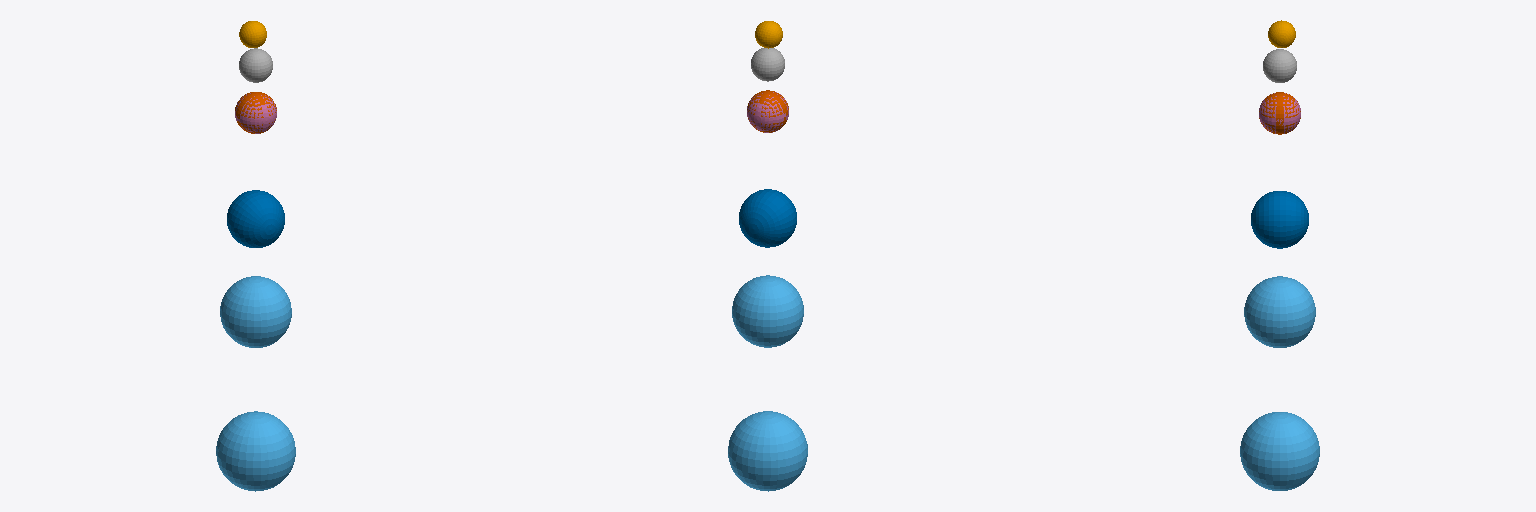
The robot description file, URDF, robot "MyArm300pi_EE_test_pt2":
<?xml version="1.0" encoding="UTF-8"?>
<robot name="MyArm300pi_EE_test_pt2">
  <joint name="gripper_base_to_gripper_left2" type="revolute">
    <origin xyz="-0.005 0.027 0. " rpy="0. -1.5707963 0. "/>
    <parent link="gripper_base"/>
    <child link="gripper_left2"/>
    <axis xyz="1. 0. 0."/>
    <limit lower="-0.7999999" upper="0.5" effort="0." velocity="5939047335254987724700441203225657344."/>
  </joint>
  <joint name="gripper_base_to_gripper_right2" type="revolute">
    <origin xyz="0.005 0.027 0. " rpy="0. -1.5707963 0. "/>
    <parent link="gripper_base"/>
    <child link="gripper_right2"/>
    <axis xyz="1. 0. 0."/>
    <limit lower="-0.5" upper="0.7999999" effort="0." velocity="5939047335254987724700441203225657344."/>
  </joint>
  <joint name="gripper_base_to_gripper_right3" type="revolute">
    <origin xyz="0.012 0.005 0. " rpy="0. -1.5707963 0. "/>
    <parent link="gripper_base"/>
    <child link="gripper_right3"/>
    <axis xyz="1. 0. 0."/>
    <limit lower="-0.15" upper="0.7" effort="0." velocity="5939047335254987724700441203225657344."/>
  </joint>
  <joint name="gripper_base_to_joint7" type="fixed">
    <origin xyz="0.0337681 0.0000224 0.0007262" rpy="3.1394386 0.0018566 1.5790223"/>
    <parent link="joint7"/>
    <child link="gripper_base"/>
  </joint>
  <joint name="gripper_controller" type="revolute">
    <origin xyz="-0.012 0.005 0. " rpy="0. -1.5707963 0. "/>
    <parent link="gripper_base"/>
    <child link="gripper_left3"/>
    <axis xyz="1. 0. 0."/>
    <limit lower="-0.7" upper="0.15" effort="1000." velocity="5939047335254987724700441203225657344."/>
  </joint>
  <joint name="gripper_left3_to_gripper_left1" type="revolute">
    <origin xyz="-0. 0.016 0.027" rpy="0.0000001 -0.0000005 -0.0000004"/>
    <parent link="gripper_left3"/>
    <child link="gripper_left1"/>
    <axis xyz="1. 0. 0."/>
    <limit lower="-0.5" upper="0.5" effort="0." velocity="5939047335254987724700441203225657344."/>
  </joint>
  <joint name="gripper_right3_to_gripper_right1" type="revolute">
    <origin xyz="0. 0.016 -0.027" rpy="0. 0. 0."/>
    <parent link="gripper_right3"/>
    <child link="gripper_right1"/>
    <axis xyz="1. 0. 0."/>
    <limit lower="-0.5" upper="0.5" effort="0." velocity="5939047335254987724700441203225657344."/>
  </joint>
  <joint name="joint1_to_base" type="revolute">
    <origin xyz="0. 0. 0.165" rpy="0. -1.5707963 0. "/>
    <parent link="base"/>
    <child link="joint1"/>
    <axis xyz="1. 0. 0."/>
    <limit lower="-2.7924999" upper="2.7924999" effort="1000." velocity="1."/>
  </joint>
  <joint name="joint2_to_joint1" type="revolute">
    <origin xyz="0. 0. 0." rpy="0. 0. 1.5708"/>
    <parent link="joint1"/>
    <child link="joint2"/>
    <axis xyz="1. 0. 0."/>
    <limit lower="-1.3961999" upper="1.3961999" effort="1000." velocity="1."/>
  </joint>
  <joint name="joint3_to_joint2" type="revolute">
    <origin xyz="0. -0.11 0. " rpy="0. 0. -1.5708"/>
    <parent link="joint2"/>
    <child link="joint3"/>
    <axis xyz="1. 0. 0."/>
    <limit lower="-2.8796998" upper="2.8796998" effort="1000." velocity="1."/>
  </joint>
  <joint name="joint4_to_joint3" type="revolute">
    <origin xyz="0. 0. 0." rpy="3.1415925 -0.0000026 -1.5708 "/>
    <parent link="joint3"/>
    <child link="joint4"/>
    <axis xyz="1. 0. 0."/>
    <limit lower="-1.7453" upper="1.3961999" effort="1000." velocity="1."/>
  </joint>
  <joint name="joint5_to_joint4" type="revolute">
    <origin xyz="0. -0.126 0. " rpy="0. 0. -1.5708"/>
    <parent link="joint4"/>
    <child link="joint5"/>
    <axis xyz="1. 0. 0."/>
    <limit lower="-2.8796998" upper="2.8796998" effort="1000." velocity="1."/>
  </joint>
  <joint name="joint6_to_joint5" type="revolute">
    <origin xyz="0. 0. 0." rpy="0. 0. 1.5708"/>
    <parent link="joint5"/>
    <child link="joint6"/>
    <axis xyz="1. 0. 0."/>
    <limit lower="-1.9198" upper="1.9198" effort="1000." velocity="1."/>
  </joint>
  <joint name="joint7_to_joint6" type="revolute">
    <origin xyz="0. -0.056 0. " rpy="0. 0. -1.5708"/>
    <parent link="joint6"/>
    <child link="joint7"/>
    <axis xyz="1. 0. 0."/>
    <limit lower="-2.8796998" upper="2.8796998" effort="1000." velocity="1."/>
  </joint>
  <joint name="root_joint" type="fixed">
    <origin xyz="0. 0. 0." rpy="0. 0. 0."/>
    <parent link="World"/>
    <child link="base"/>
  </joint>
  <link name="World">
    <visual>
      <origin xyz="0.0111862 0. 0. " rpy="0. 0. 0."/>
      <geometry>
        <mesh filename="meshes/CollisionMesh.obj" scale="1. 1. 1."/>
      </geometry>
    </visual>
    <visual>
      <origin xyz="-0.0250791 0.0603377 0.4543955" rpy="0. 0. 0."/>
      <geometry>
        <mesh filename="meshes/Cube.obj" scale="0.0325 0.0325 0.0325"/>
      </geometry>
    </visual>
    <visual>
      <origin xyz="-0.0023242 0.0021281 0.4935589" rpy="1.1243356 -1.5385494 -1.1245381"/>
      <geometry>
        <sphere radius="0.0150095"/>
      </geometry>
    </visual>
  </link>
  <link name="base">
    <inertial>
      <origin xyz="0. 0. 0." rpy="0. 0. 0."/>
      <mass value="0.000001"/>
      <inertia ixx="0." ixy="0." ixz="0." iyy="0." iyz="0." izz="0."/>
    </inertial>
    <visual>
      <origin xyz="0. 0. 0." rpy="0. 0. 0."/>
      <geometry>
        <mesh filename="meshes/base_visuals.obj" scale="1. 1. 1."/>
      </geometry>
    </visual>
    <visual>
      <origin xyz="0. 0. 0." rpy="0. 0. 0."/>
      <geometry>
        <mesh filename="meshes/base_collisions.obj" scale="1. 1. 1."/>
      </geometry>
    </visual>
    <visual>
      <origin xyz="0. 0. 0." rpy="0. 0. 0."/>
      <geometry>
        <sphere radius="0.0430467"/>
      </geometry>
    </visual>
    <collision>
      <origin xyz="0. 0. 0." rpy="0. 0. 0."/>
      <geometry>
        <mesh filename="meshes/base_collisions.obj" scale="1. 1. 1."/>
      </geometry>
    </collision>
  </link>
  <link name="gripper_base">
    <inertial>
      <origin xyz="0. 0. 0." rpy="0. 0. 0."/>
      <mass value="0.000001"/>
      <inertia ixx="0." ixy="0." ixz="0." iyy="0." iyz="0." izz="0."/>
    </inertial>
    <visual>
      <origin xyz="0. 0.0077 -0.012 " rpy="0. 0. 0."/>
      <geometry>
        <mesh filename="meshes/gripper_base_visuals.obj" scale="1. 1. 1."/>
      </geometry>
    </visual>
    <visual>
      <origin xyz="0. 0.0077 -0.012 " rpy="0. 0. 0."/>
      <geometry>
        <mesh filename="meshes/gripper_base_collisions.obj" scale="1. 1. 1."/>
      </geometry>
    </visual>
    <collision>
      <origin xyz="0. 0.0077 -0.012 " rpy="0. 0. 0."/>
      <geometry>
        <mesh filename="meshes/gripper_base_collisions.obj" scale="1. 1. 1."/>
      </geometry>
    </collision>
  </link>
  <link name="gripper_left1">
    <inertial>
      <origin xyz="0. 0. 0." rpy="0. 0. 0."/>
      <mass value="0.000001"/>
      <inertia ixx="0." ixy="0." ixz="0." iyy="0." iyz="0." izz="0."/>
    </inertial>
    <visual>
      <origin xyz="-0.012 -0.0133 -0.039 " rpy="-2.9133403 1.5707958 -2.91334 "/>
      <geometry>
        <mesh filename="meshes/gripper_left1_visuals.obj" scale="1. 1. 1."/>
      </geometry>
    </visual>
    <visual>
      <origin xyz="-0.012 -0.0133 0.039 " rpy="-2.9133403 1.5707958 -2.91334 "/>
      <geometry>
        <mesh filename="meshes/gripper_left1_collisions.obj" scale="1. 1. 1."/>
      </geometry>
    </visual>
    <collision>
      <origin xyz="-0.012 -0.0133 0.039 " rpy="-2.9133403 1.5707958 -2.91334 "/>
      <geometry>
        <mesh filename="meshes/gripper_left1_collisions.obj" scale="1. 1. 1."/>
      </geometry>
    </collision>
  </link>
  <link name="gripper_left2">
    <inertial>
      <origin xyz="0. 0. 0." rpy="0. 0. 0."/>
      <mass value="0.000001"/>
      <inertia ixx="0." ixy="0." ixz="0." iyy="0." iyz="0." izz="0."/>
    </inertial>
    <visual>
      <origin xyz="-0.012 -0.0195 -0.005 " rpy="0. 1.5707963 0. "/>
      <geometry>
        <mesh filename="meshes/gripper_left2_visuals.obj" scale="1. 1. 1."/>
      </geometry>
    </visual>
    <visual>
      <origin xyz="-0.012 -0.0195 0.005 " rpy="0. 1.5707963 0. "/>
      <geometry>
        <mesh filename="meshes/gripper_left2_collisions.obj" scale="1. 1. 1."/>
      </geometry>
    </visual>
    <collision>
      <origin xyz="-0.012 -0.0195 0.005 " rpy="0. 1.5707963 0. "/>
      <geometry>
        <mesh filename="meshes/gripper_left2_collisions.obj" scale="1. 1. 1."/>
      </geometry>
    </collision>
  </link>
  <link name="gripper_left3">
    <inertial>
      <origin xyz="0. 0. 0." rpy="0. 0. 0."/>
      <mass value="0.000001"/>
      <inertia ixx="0." ixy="0." ixz="0." iyy="0." iyz="0." izz="0."/>
    </inertial>
    <visual>
      <origin xyz="-0.012 0.0025 -0.012 " rpy="0. 1.5707963 0. "/>
      <geometry>
        <mesh filename="meshes/gripper_left3_visuals.obj" scale="1. 1. 1."/>
      </geometry>
    </visual>
    <visual>
      <origin xyz="-0.012 0.0025 -0.012 " rpy="0. 1.5707963 0. "/>
      <geometry>
        <mesh filename="meshes/gripper_left3_collisions.obj" scale="1. 1. 1."/>
      </geometry>
    </visual>
    <collision>
      <origin xyz="-0.012 0.0025 -0.012 " rpy="0. 1.5707963 0. "/>
      <geometry>
        <mesh filename="meshes/gripper_left3_collisions.obj" scale="1. 1. 1."/>
      </geometry>
    </collision>
  </link>
  <link name="gripper_right1">
    <inertial>
      <origin xyz="0. 0. 0." rpy="0. 0. 0."/>
      <mass value="0.000001"/>
      <inertia ixx="0." ixy="0." ixz="0." iyy="0." iyz="0." izz="0."/>
    </inertial>
    <visual>
      <origin xyz="-0.012 -0.0133 0.039 " rpy="0. 1.5707963 0. "/>
      <geometry>
        <mesh filename="meshes/gripper_right1_visuals.obj" scale="1. 1. 1."/>
      </geometry>
    </visual>
    <visual>
      <origin xyz="-0.012 -0.0133 0.039 " rpy="0. 1.5707963 0. "/>
      <geometry>
        <mesh filename="meshes/gripper_right1_collisions.obj" scale="1. 1. 1."/>
      </geometry>
    </visual>
    <collision>
      <origin xyz="-0.012 -0.0133 0.039 " rpy="0. 1.5707963 0. "/>
      <geometry>
        <mesh filename="meshes/gripper_right1_collisions.obj" scale="1. 1. 1."/>
      </geometry>
    </collision>
  </link>
  <link name="gripper_right2">
    <inertial>
      <origin xyz="0. 0. 0." rpy="0. 0. 0."/>
      <mass value="0.000001"/>
      <inertia ixx="0." ixy="0." ixz="0." iyy="0." iyz="0." izz="0."/>
    </inertial>
    <visual>
      <origin xyz="-0.012 -0.0195 0.005 " rpy="0.1549717 1.5707961 0.1549717"/>
      <geometry>
        <mesh filename="meshes/gripper_right2_visuals.obj" scale="1. 1. 1."/>
      </geometry>
    </visual>
    <visual>
      <origin xyz="-0.012 -0.0195 0.005 " rpy="0.1549717 1.5707961 0.1549717"/>
      <geometry>
        <mesh filename="meshes/gripper_right2_collisions.obj" scale="1. 1. 1."/>
      </geometry>
    </visual>
    <collision>
      <origin xyz="-0.012 -0.0195 0.005 " rpy="0.1549717 1.5707961 0.1549717"/>
      <geometry>
        <mesh filename="meshes/gripper_right2_collisions.obj" scale="1. 1. 1."/>
      </geometry>
    </collision>
  </link>
  <link name="gripper_right3">
    <inertial>
      <origin xyz="0. 0. 0." rpy="0. 0. 0."/>
      <mass value="0.000001"/>
      <inertia ixx="0." ixy="0." ixz="0." iyy="0." iyz="0." izz="0."/>
    </inertial>
    <visual>
      <origin xyz="-0.012 0.0025 0.012 " rpy="0. 1.5707963 0. "/>
      <geometry>
        <mesh filename="meshes/gripper_right3_visuals.obj" scale="1. 1. 1."/>
      </geometry>
    </visual>
    <visual>
      <origin xyz="-0.012 0.0025 0.012 " rpy="0. 1.5707963 0. "/>
      <geometry>
        <mesh filename="meshes/gripper_right3_collisions.obj" scale="1. 1. 1."/>
      </geometry>
    </visual>
    <collision>
      <origin xyz="-0.012 0.0025 0.012 " rpy="0. 1.5707963 0. "/>
      <geometry>
        <mesh filename="meshes/gripper_right3_collisions.obj" scale="1. 1. 1."/>
      </geometry>
    </collision>
  </link>
  <link name="joint1">
    <inertial>
      <origin xyz="0. 0. 0." rpy="0. 0. 0."/>
      <mass value="0.000001"/>
      <inertia ixx="0." ixy="0." ixz="0." iyy="0." iyz="0." izz="0."/>
    </inertial>
    <visual>
      <origin xyz="-0.085 0. 0. " rpy="0. 1.5707963 0. "/>
      <geometry>
        <mesh filename="meshes/joint1_visuals.obj" scale="1. 1. 1."/>
      </geometry>
    </visual>
    <visual>
      <origin xyz="-0.085 0. 0. " rpy="0. 1.5707963 0. "/>
      <geometry>
        <mesh filename="meshes/joint1_collisions.obj" scale="1. 1. 1."/>
      </geometry>
    </visual>
    <visual>
      <origin xyz="0. 0. 0." rpy="0. 1.5707963 0. "/>
      <geometry>
        <sphere radius="0.038742"/>
      </geometry>
    </visual>
    <collision>
      <origin xyz="-0.085 0. 0. " rpy="0. 1.5707963 0. "/>
      <geometry>
        <mesh filename="meshes/joint1_collisions.obj" scale="1. 1. 1."/>
      </geometry>
    </collision>
  </link>
  <link name="joint2">
    <inertial>
      <origin xyz="0. 0. 0." rpy="0. 0. 0."/>
      <mass value="0.000001"/>
      <inertia ixx="0." ixy="0." ixz="0." iyy="0." iyz="0." izz="0."/>
    </inertial>
    <visual>
      <origin xyz="0. 0. 0." rpy="1.5707937 -0.0000036 -1.5707964"/>
      <geometry>
        <mesh filename="meshes/joint2_visuals.obj" scale="1. 1. 1."/>
      </geometry>
    </visual>
    <visual>
      <origin xyz="0. 0. 0." rpy="1.5707937 -0.0000036 -1.5707964"/>
      <geometry>
        <mesh filename="meshes/joint2_collisions.obj" scale="1. 1. 1."/>
      </geometry>
    </visual>
    <visual>
      <origin xyz="0. 0. 0." rpy="0. 1.5707963 0. "/>
      <geometry>
        <sphere radius="0.0383546"/>
      </geometry>
    </visual>
    <collision>
      <origin xyz="0. 0. 0." rpy="1.5707937 -0.0000036 -1.5707964"/>
      <geometry>
        <mesh filename="meshes/joint2_collisions.obj" scale="1. 1. 1."/>
      </geometry>
    </collision>
  </link>
  <link name="joint3">
    <inertial>
      <origin xyz="0. 0. 0." rpy="0. 0. 0."/>
      <mass value="0.000001"/>
      <inertia ixx="0." ixy="0." ixz="0." iyy="0." iyz="0." izz="0."/>
    </inertial>
    <visual>
      <origin xyz="-0.054 0. 0. " rpy="0. 1.5707963 0. "/>
      <geometry>
        <mesh filename="meshes/joint3_visuals.obj" scale="1. 1. 1."/>
      </geometry>
    </visual>
    <visual>
      <origin xyz="-0.054 0. 0. " rpy="0. 1.5707963 0. "/>
      <geometry>
        <mesh filename="meshes/joint3_collisions.obj" scale="1. 1. 1."/>
      </geometry>
    </visual>
    <visual>
      <origin xyz="0. 0. 0." rpy="0. 1.5707963 0. "/>
      <geometry>
        <sphere radius="0.028243"/>
      </geometry>
    </visual>
    <collision>
      <origin xyz="-0.054 0. 0. " rpy="0. 1.5707963 0. "/>
      <geometry>
        <mesh filename="meshes/joint3_collisions.obj" scale="1. 1. 1."/>
      </geometry>
    </collision>
  </link>
  <link name="joint4">
    <inertial>
      <origin xyz="0. 0. 0." rpy="0. 0. 0."/>
      <mass value="0.000001"/>
      <inertia ixx="0." ixy="0." ixz="0." iyy="0." iyz="0." izz="0."/>
    </inertial>
    <visual>
      <origin xyz="0. 0. 0." rpy="-1.5707964 -0.0000036 -1.5707964"/>
      <geometry>
        <mesh filename="meshes/joint4_visuals.obj" scale="1. 1. 1."/>
      </geometry>
    </visual>
    <visual>
      <origin xyz="0. 0. 0." rpy="-1.5707964 -0.0000036 -1.5707964"/>
      <geometry>
        <mesh filename="meshes/joint4_collisions.obj" scale="1. 1. 1."/>
      </geometry>
    </visual>
    <visual>
      <origin xyz="0. 0. 0." rpy="0. 1.5707963 0. "/>
      <geometry>
        <sphere radius="0.0313811"/>
      </geometry>
    </visual>
    <collision>
      <origin xyz="0. 0. 0." rpy="-1.5707964 -0.0000036 -1.5707964"/>
      <geometry>
        <mesh filename="meshes/joint4_collisions.obj" scale="1. 1. 1."/>
      </geometry>
    </collision>
  </link>
  <link name="joint5">
    <inertial>
      <origin xyz="0. 0. 0." rpy="0. 0. 0."/>
      <mass value="0.000001"/>
      <inertia ixx="0." ixy="0." ixz="0." iyy="0." iyz="0." izz="0."/>
    </inertial>
    <visual>
      <origin xyz="-0.051 0. 0. " rpy="1.5707964 -1.5707937 1.5707964"/>
      <geometry>
        <mesh filename="meshes/joint5_visuals.obj" scale="1. 1. 1."/>
      </geometry>
    </visual>
    <visual>
      <origin xyz="-0.051 0. 0. " rpy="1.5707964 -1.5707937 1.5707964"/>
      <geometry>
        <mesh filename="meshes/joint5_collisions.obj" scale="1. 1. 1."/>
      </geometry>
    </visual>
    <visual>
      <origin xyz="0. 0. 0." rpy="0. 1.5707963 0. "/>
      <geometry>
        <sphere radius="0.0228768"/>
      </geometry>
    </visual>
    <collision>
      <origin xyz="-0.051 0. 0. " rpy="1.5707964 -1.5707937 1.5707964"/>
      <geometry>
        <mesh filename="meshes/joint5_collisions.obj" scale="1. 1. 1."/>
      </geometry>
    </collision>
  </link>
  <link name="joint6">
    <inertial>
      <origin xyz="0. 0. 0." rpy="0. 0. 0."/>
      <mass value="0.000001"/>
      <inertia ixx="0." ixy="0." ixz="0." iyy="0." iyz="0." izz="0."/>
    </inertial>
    <visual>
      <origin xyz="0. 0. 0." rpy="-1.5707964 -0.0000036 -1.5707964"/>
      <geometry>
        <mesh filename="meshes/joint6_visuals.obj" scale="1. 1. 1."/>
      </geometry>
    </visual>
    <visual>
      <origin xyz="0. 0. 0." rpy="-1.5707964 -0.0000036 -1.5707964"/>
      <geometry>
        <mesh filename="meshes/joint6_collisions.obj" scale="1. 1. 1."/>
      </geometry>
    </visual>
    <visual>
      <origin xyz="0. 0. 0." rpy="0. 1.5707963 0. "/>
      <geometry>
        <sphere radius="0.0228768"/>
      </geometry>
    </visual>
    <collision>
      <origin xyz="0. 0. 0." rpy="-1.5707964 -0.0000036 -1.5707964"/>
      <geometry>
        <mesh filename="meshes/joint6_collisions.obj" scale="1. 1. 1."/>
      </geometry>
    </collision>
  </link>
  <link name="joint7">
    <inertial>
      <origin xyz="0. 0. 0." rpy="0. 0. 0."/>
      <mass value="0.000001"/>
      <inertia ixx="0." ixy="0." ixz="0." iyy="0." iyz="0." izz="0."/>
    </inertial>
    <visual>
      <origin xyz="-0.009 0. 0. " rpy="-1.5707964 -0.0000036 -1.5707964"/>
      <geometry>
        <mesh filename="meshes/joint7_visuals.obj" scale="1. 1. 1."/>
      </geometry>
    </visual>
    <visual>
      <origin xyz="-0.009 0. 0. " rpy="-1.5707964 -0.0000036 -1.5707964"/>
      <geometry>
        <mesh filename="meshes/joint7_collisions.obj" scale="1. 1. 1."/>
      </geometry>
    </visual>
    <visual>
      <origin xyz="0. 0. 0." rpy="0. 1.5707963 0. "/>
      <geometry>
        <sphere radius="0.0185302"/>
      </geometry>
    </visual>
    <collision>
      <origin xyz="-0.009 0. 0. " rpy="-1.5707964 -0.0000036 -1.5707964"/>
      <geometry>
        <mesh filename="meshes/joint7_collisions.obj" scale="1. 1. 1."/>
      </geometry>
    </collision>
  </link>
</robot>

--- Facts derived from the render (not from the file) ---
Views: 3 orthographic renders of the robot side by side, from view 1: azimuth 30°, elevation 25°; view 2: azimuth 150°, elevation 25°; view 3: azimuth 270°, elevation 25°.
Model MyArm300pi_EE_test_pt2 with 16 links and 15 joints (13 revolute, 2 fixed), rooted at World, posed all joints at 0.
Visible links, largest first — view 1: base, joint1, joint4, joint7, joint6, joint5, World; view 2: base, joint1, joint4, joint7, joint6, joint5, World; view 3: base, joint1, joint4, joint7, joint5, joint6, World.
Link boxes in pixels (x1,y1,x2,y2): base: (216,411,295,491); joint1: (220,276,291,347); joint4: (227,190,284,247); joint7: (239,48,272,82); joint6: (235,93,276,133); joint5: (235,92,276,133); World: (239,21,266,47); base: (728,411,807,491); joint1: (732,275,803,347); joint4: (739,189,796,247); joint7: (751,48,784,81); joint6: (747,92,788,132); joint5: (747,90,788,132); World: (755,21,782,48); base: (1240,412,1319,490); joint1: (1244,276,1315,347); joint4: (1251,191,1308,248); joint7: (1263,49,1296,82); joint5: (1259,92,1300,134); joint6: (1259,93,1300,133); World: (1268,20,1295,47).
Bounding box of the posed robot: 0.0861 × 0.0861 × 0.5516 m (x, y, z).
Meshes: 32 distinct files referenced, 0 mesh visuals loaded (none loaded); not drawn: 32 (reference not matched to a file when rendering).